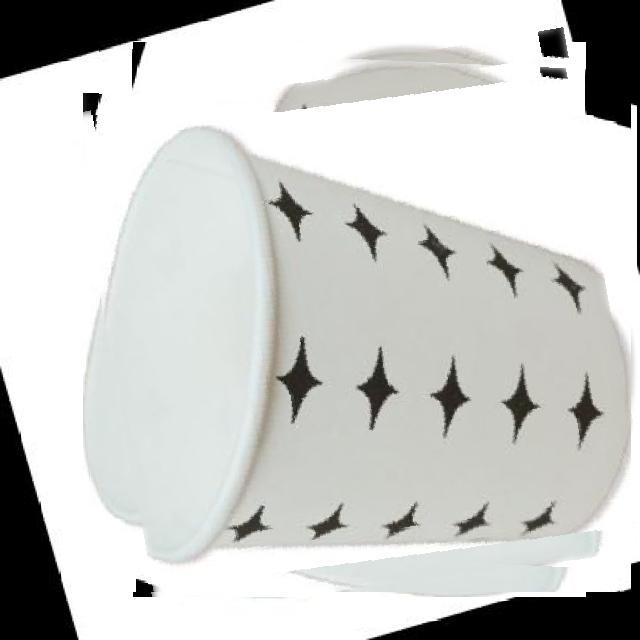non-biodegradable: (88, 47, 632, 592)
